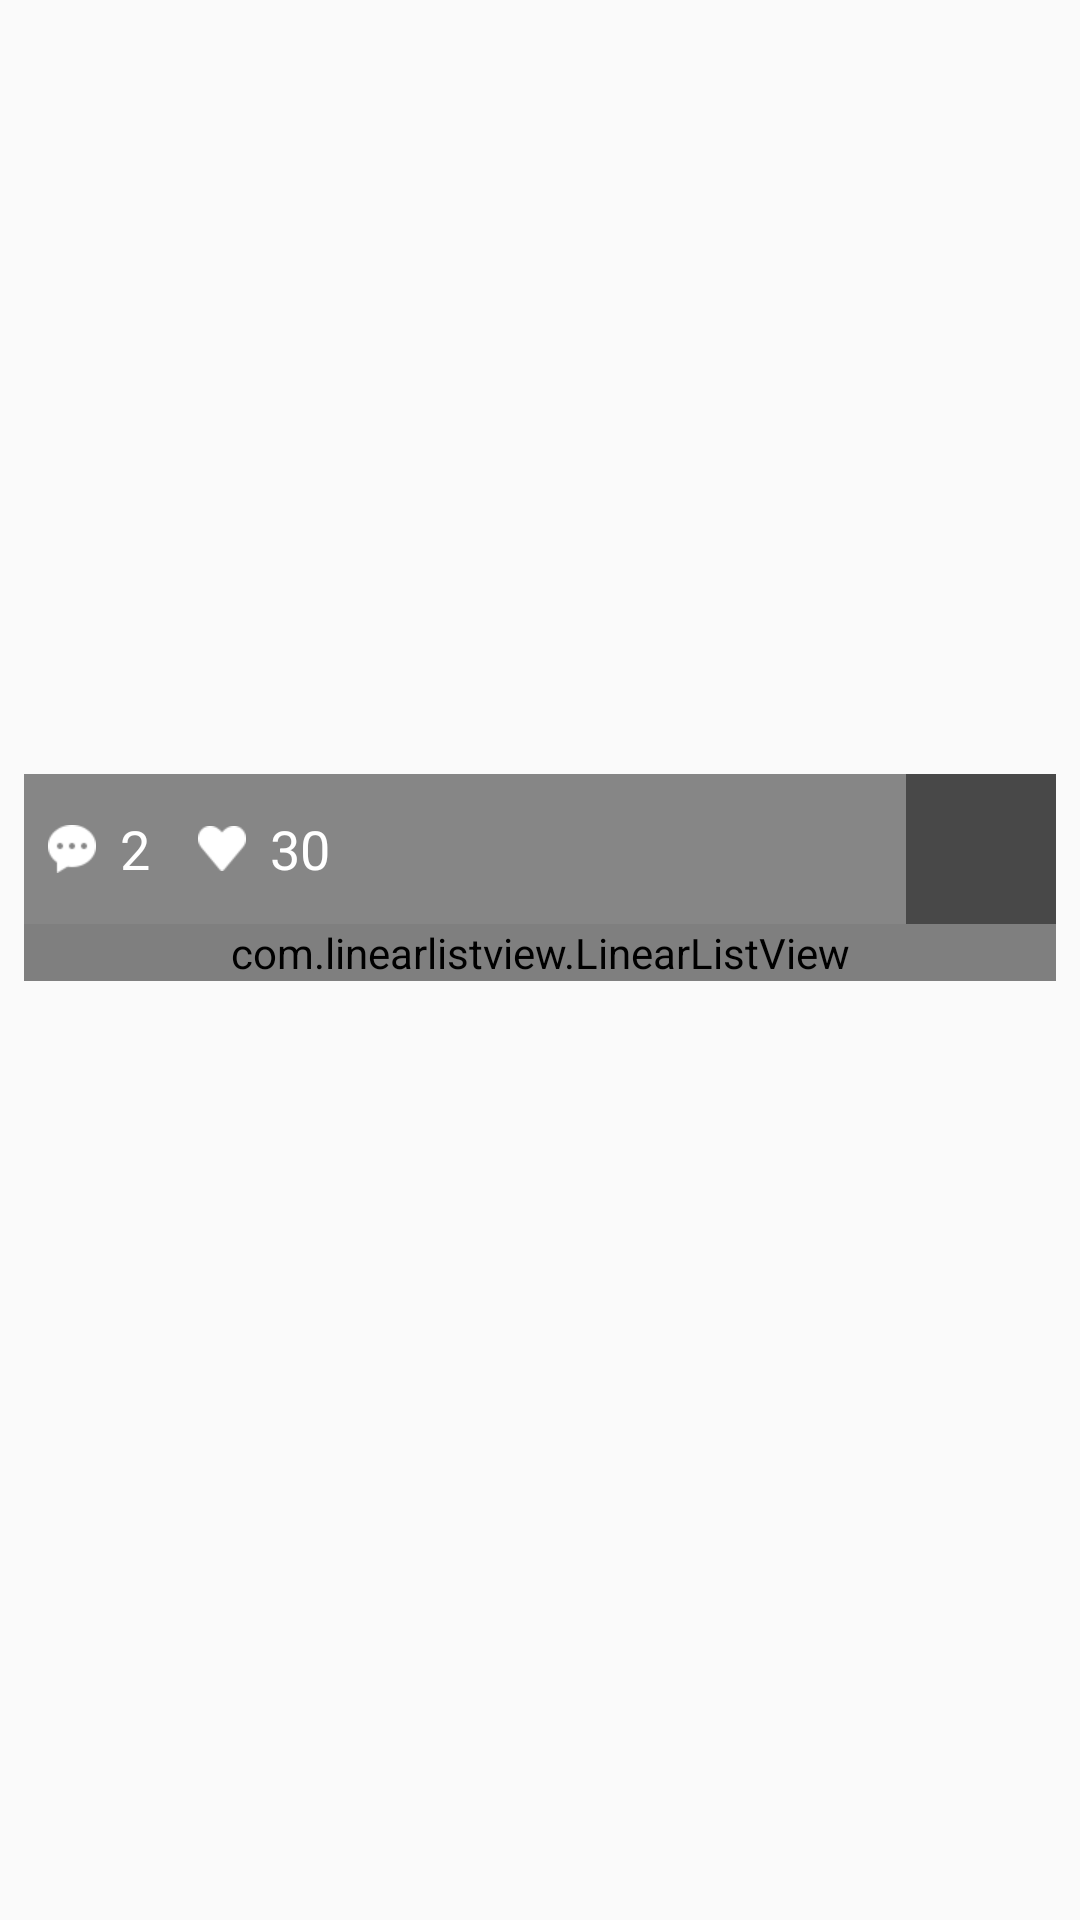

Named icons in this screenshot (1080x1920) and their centers, (x,y):
comment: (72,849)
heart: (222,848)
